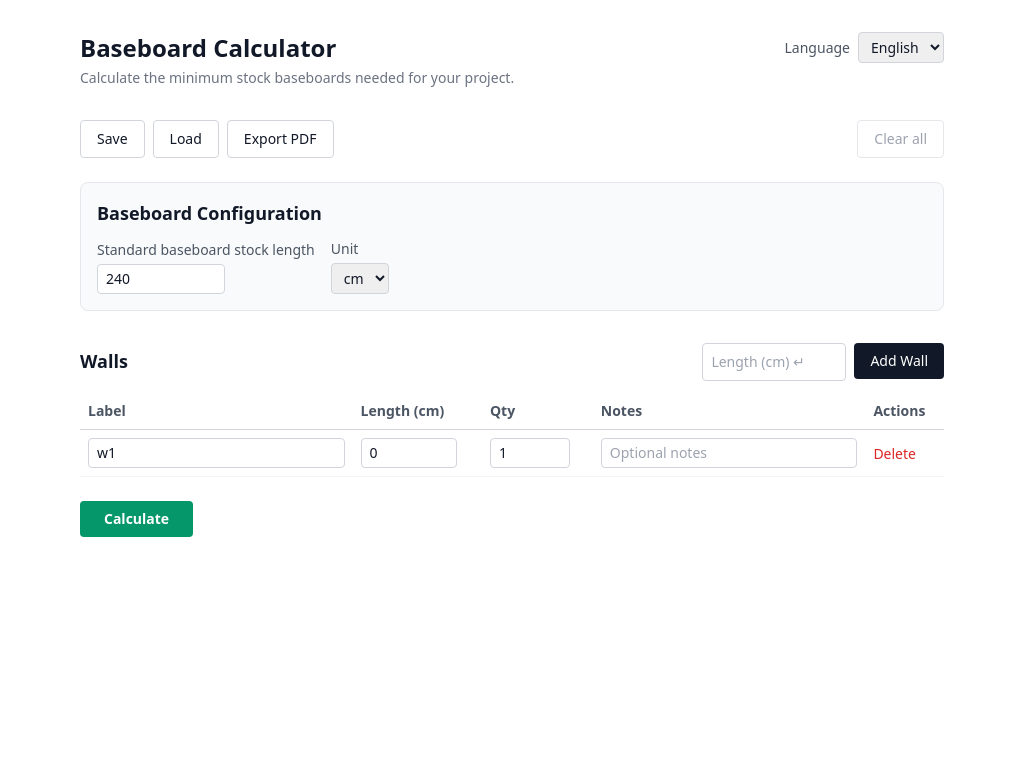
Scenario: App › calculates totals for an entered wall and shows summary
Replace the text in the number field named "Length" with "125" at (409,453), box left=361, top=438, right=457, bottom=468
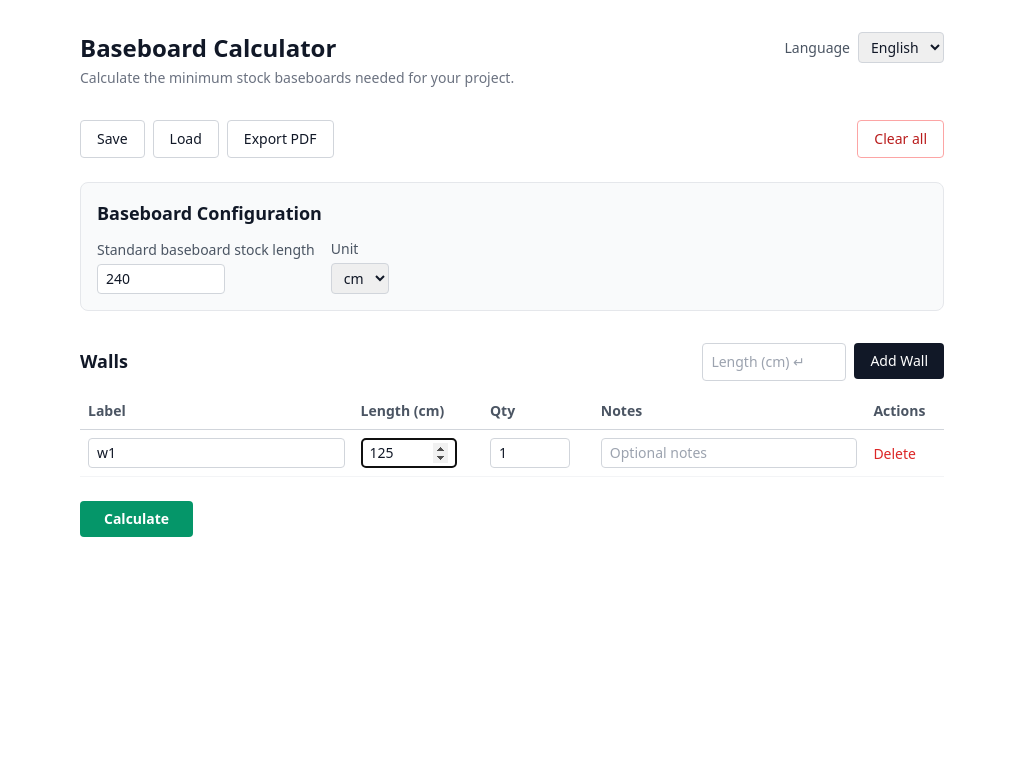
Click the button with test id "calculate-button" at (137,519), box left=80, top=501, right=193, bottom=537
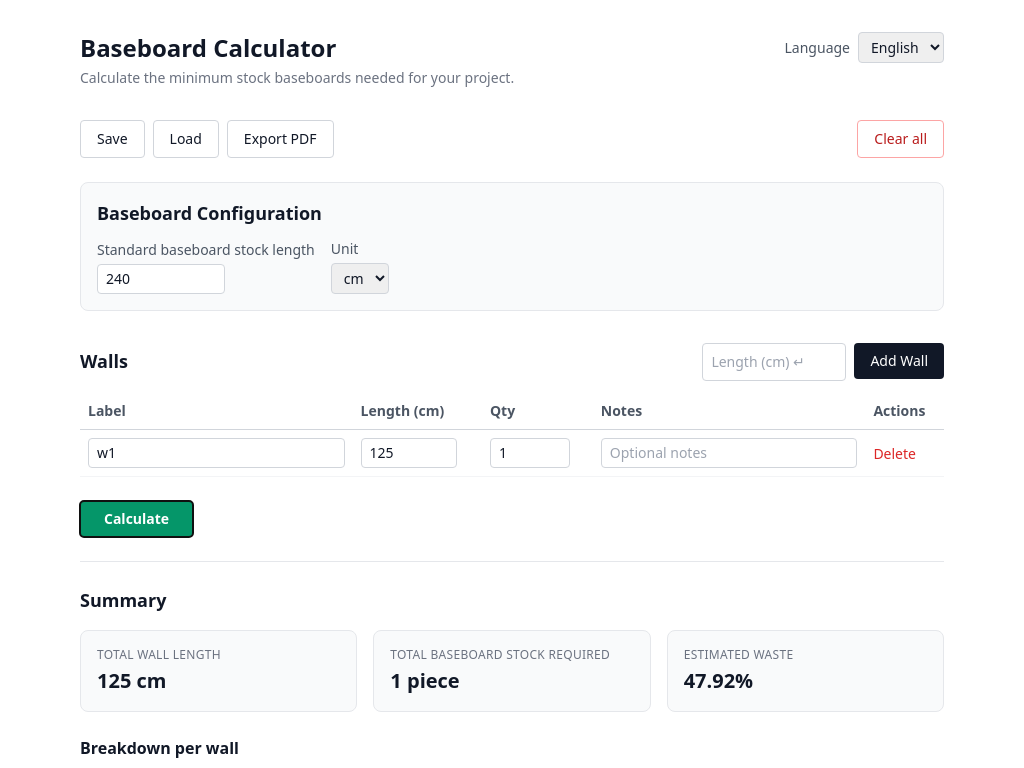
Expected: the element with test id "summary-stock-required" shows "1 piece", left=390, top=667, right=460, bottom=694
Expected: the element with test id "summary-total-wall-length" shows "125 cm", left=97, top=667, right=166, bottom=694
